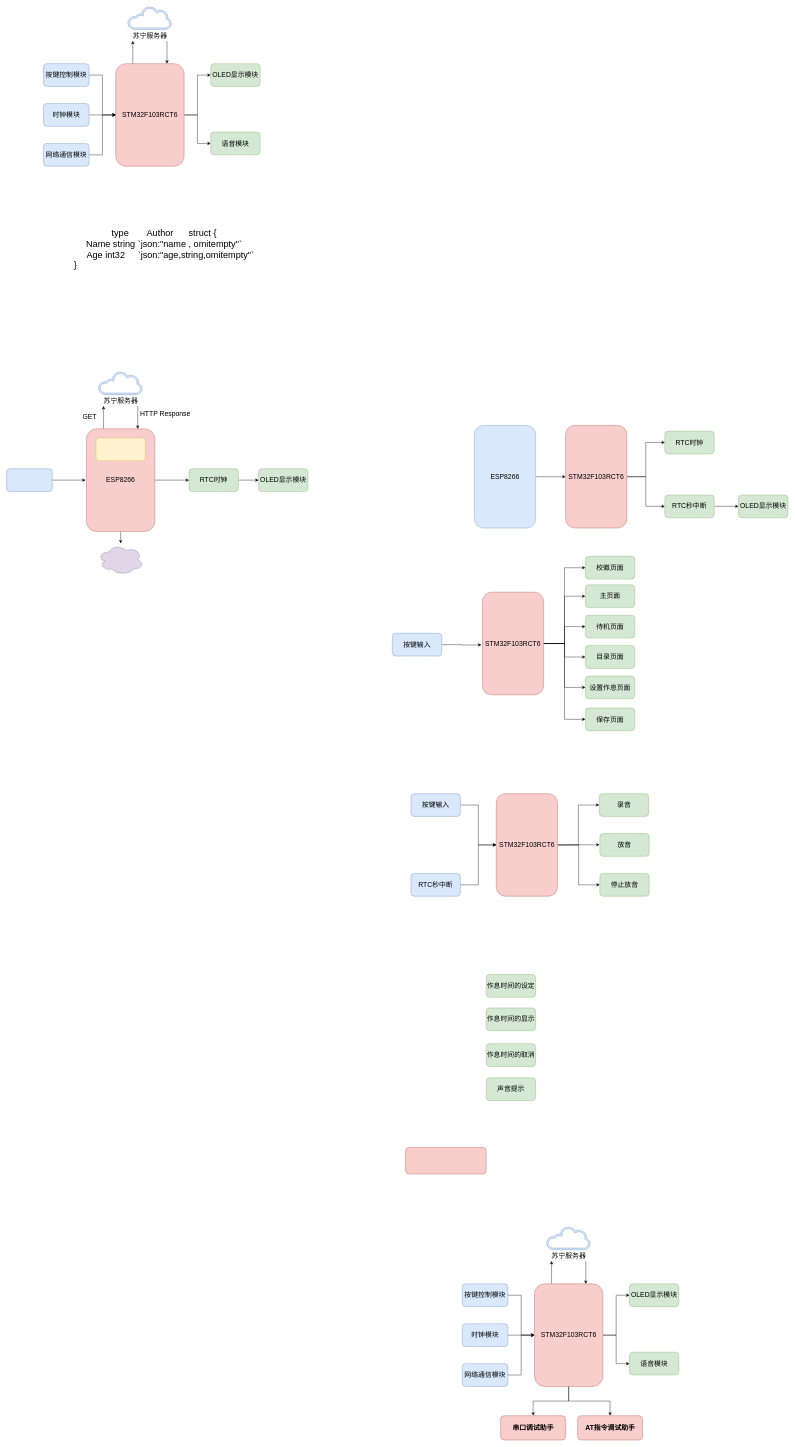
Some shapes in this 795 by 1447 pixel diagram are drawn without their labels. Here are the shapes that lost their labels. From the top down, the box of each, then its label:
(96, 438, 145, 461): USART3
(6, 468, 52, 492): AT指令
(97, 544, 143, 575): 手机热点
(405, 1147, 486, 1174): 测试流程
